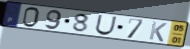0: (21, 7, 42, 29)
7: (127, 18, 145, 40)
8: (72, 13, 91, 33)
9: (44, 9, 63, 30)
K: (148, 21, 169, 43)
U: (94, 14, 118, 36)
